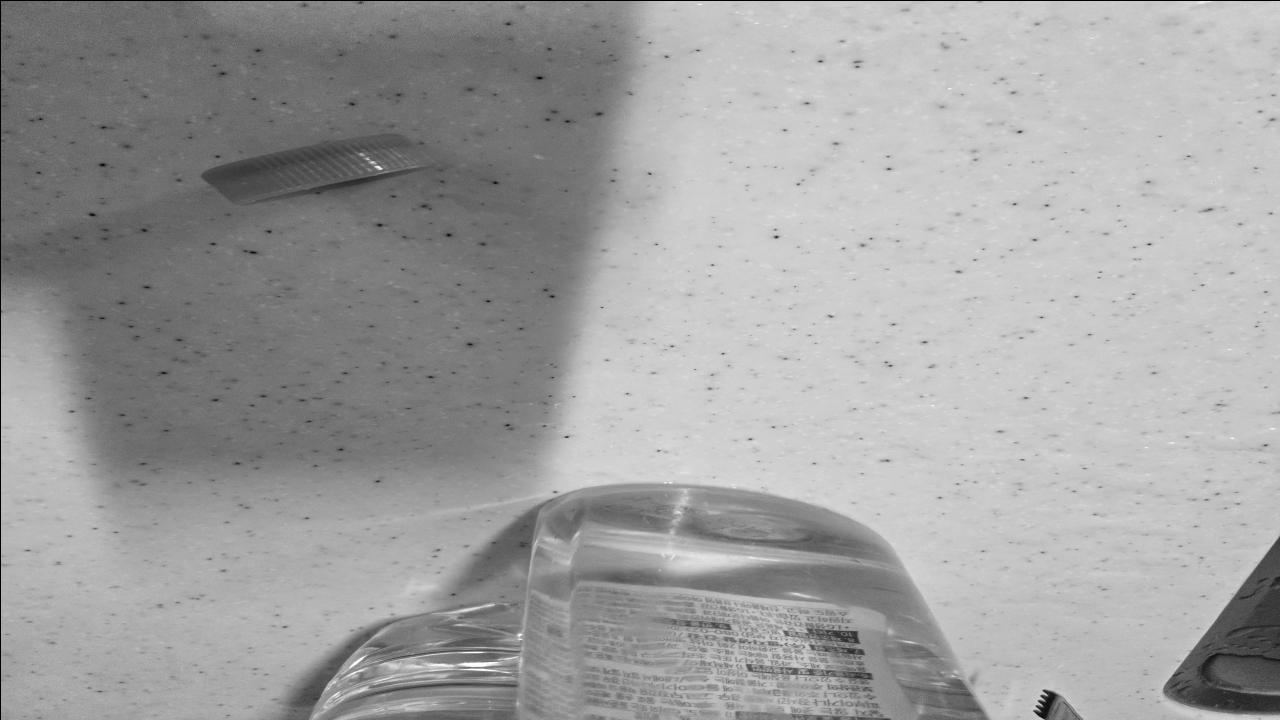bottle_cap: (216, 135, 420, 203)
